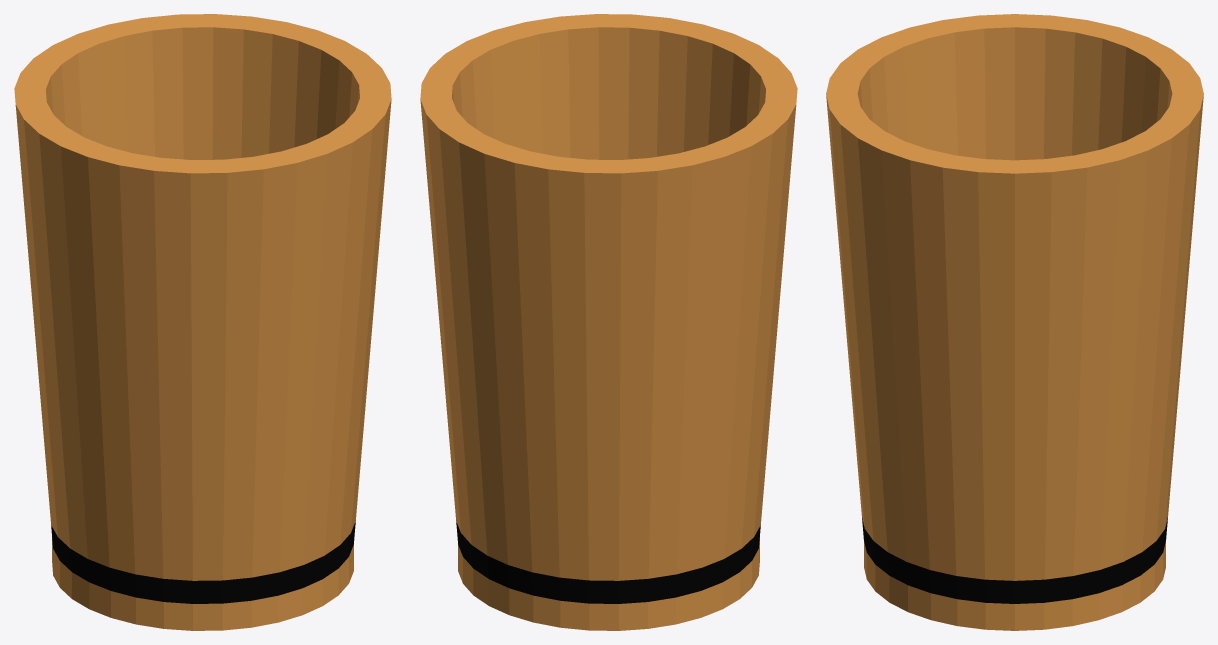
The model's file is shaker.gltf.
3 renders of one model, left to right at view 1: azimuth 30°, elevation 25°; view 2: azimuth 150°, elevation 25°; view 3: azimuth 270°, elevation 25°, orthographic.
Visible parts, largest first — view 1: Shaker; view 2: Shaker; view 3: Shaker.
Boxes of the visible parts, left/top/right/bottom form: Shaker: left=14, top=14, right=391, bottom=630; Shaker: left=420, top=14, right=797, bottom=630; Shaker: left=826, top=14, right=1203, bottom=630.
Bounding box in the file's own units: 0.5178 × 0.7157 × 0.5178.
